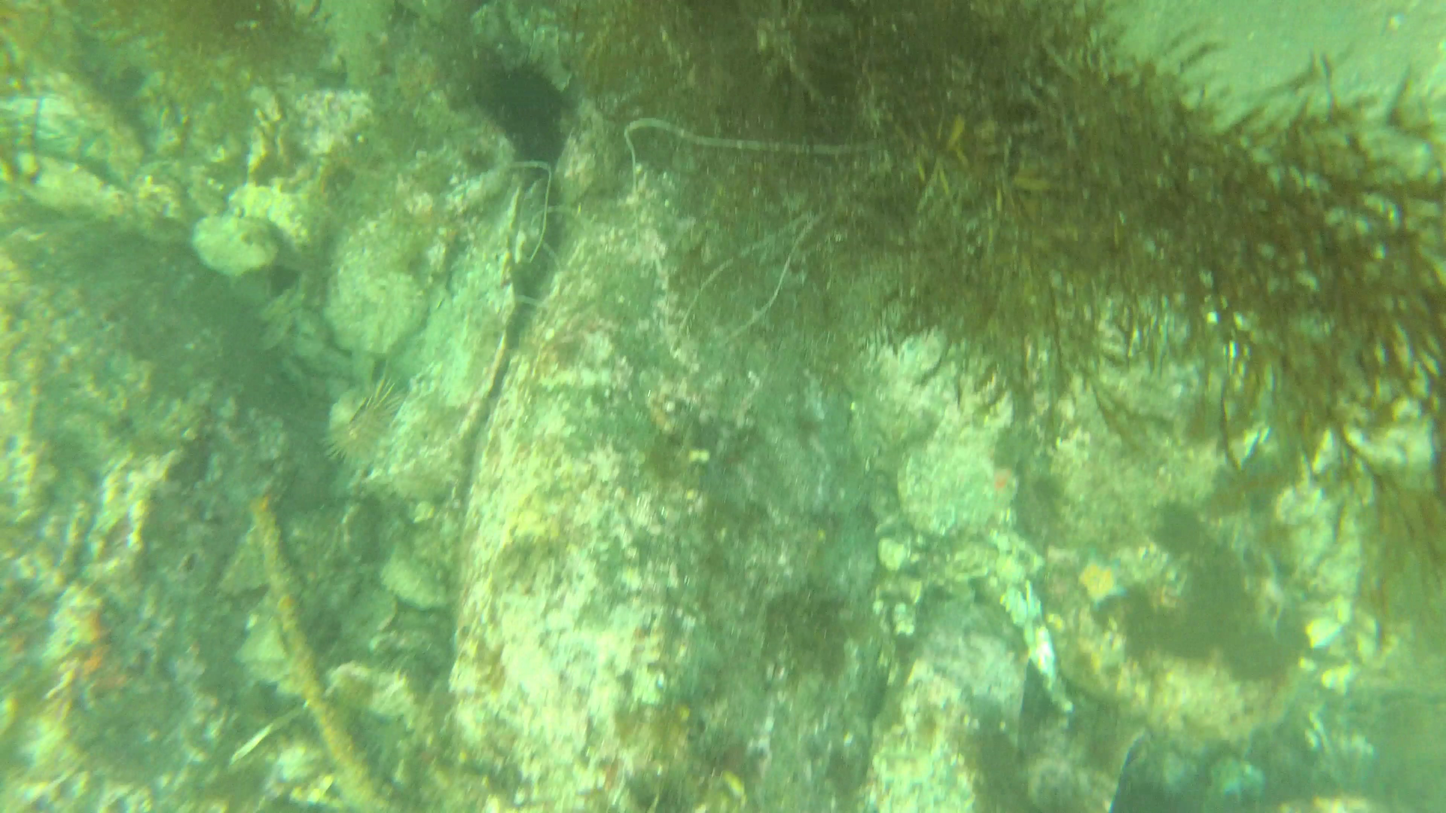holothurian: (1070, 541, 1131, 611)
starfish: (320, 374, 412, 472)
